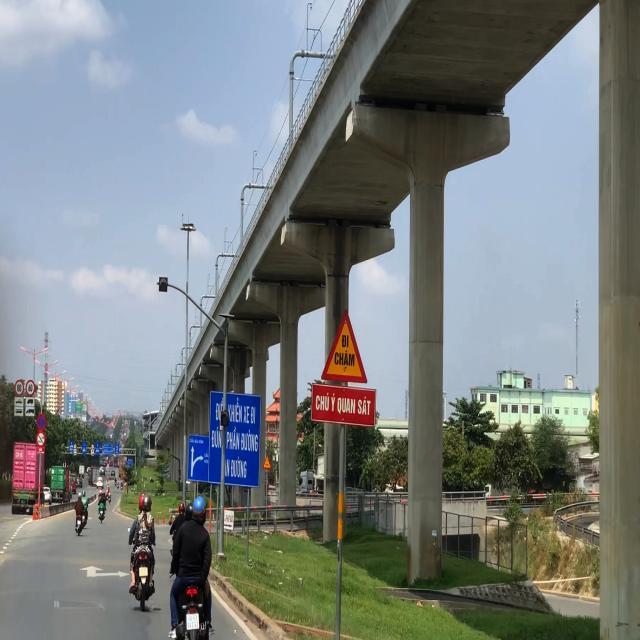Cam dung va do: (36, 413, 46, 430)
Nguy hiem: (319, 306, 371, 388)
Toc do toi da: (14, 378, 25, 396), (26, 378, 35, 396)
